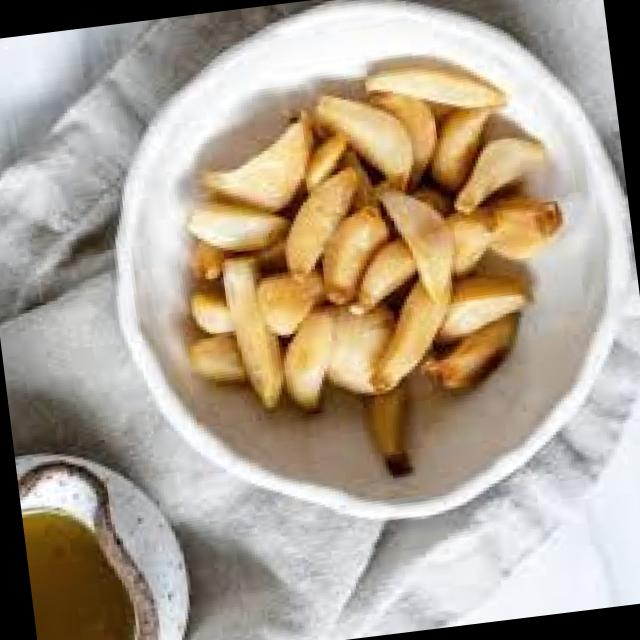Garlic: (424, 216, 560, 354), (211, 108, 352, 219), (350, 261, 459, 403), (442, 111, 568, 220), (478, 158, 584, 274), (338, 60, 424, 196), (268, 303, 349, 422), (361, 49, 512, 112), (389, 162, 455, 302), (191, 174, 292, 249), (232, 252, 274, 423)
